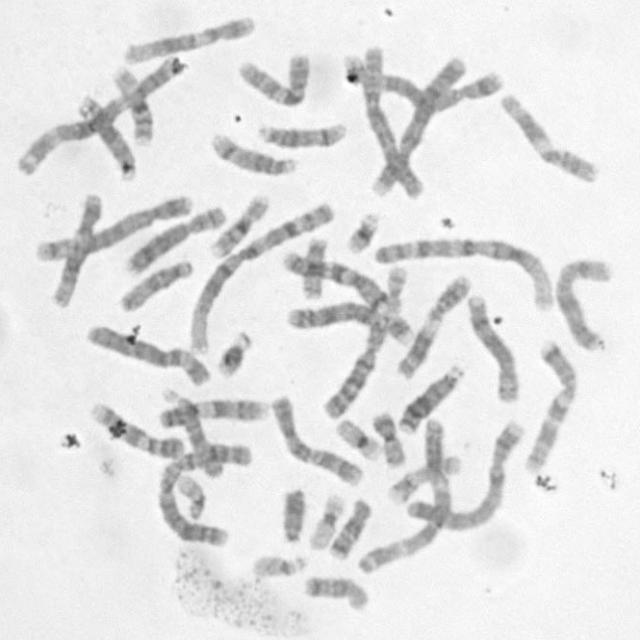A1: (184, 197, 336, 356), (370, 232, 556, 313)
A2: (285, 301, 387, 421), (153, 437, 254, 550)
A3: (11, 52, 188, 178), (353, 416, 452, 576)
B4: (361, 50, 472, 200), (402, 420, 528, 534)
B5: (31, 190, 195, 265), (340, 53, 506, 113)
C10: (269, 391, 365, 487), (234, 48, 312, 110)
C11: (496, 90, 600, 186), (392, 270, 472, 380)
C12: (118, 12, 257, 65), (48, 190, 106, 308)
C6: (356, 42, 426, 200), (82, 321, 212, 389)
C7: (519, 336, 579, 474), (277, 247, 393, 311)
C8: (121, 202, 227, 277), (464, 290, 522, 405)
C9: (86, 398, 185, 461), (154, 394, 270, 428)
D13: (394, 361, 465, 435), (82, 94, 136, 182)
D14: (206, 129, 297, 178), (255, 118, 347, 150)
D15: (158, 384, 225, 478), (116, 256, 196, 314)
E16: (206, 189, 270, 259), (110, 62, 155, 147)
E17: (382, 449, 465, 506), (382, 264, 415, 343)
E18: (324, 494, 374, 562), (300, 571, 372, 614)
F19: (305, 489, 350, 553), (332, 414, 383, 462)
F20: (297, 233, 330, 302), (370, 408, 407, 469)
G21: (214, 327, 253, 379), (344, 207, 381, 255)
G22: (249, 550, 308, 580), (175, 471, 208, 521)
X: (551, 254, 615, 354)
Y: (277, 485, 307, 544)
